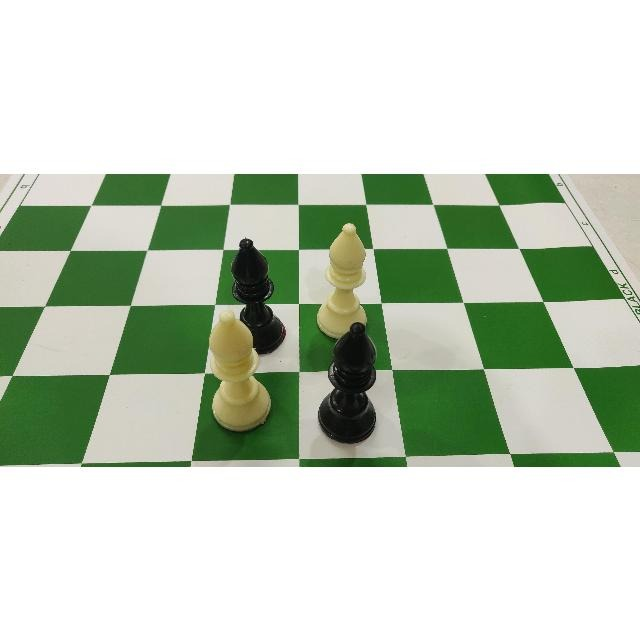black-bishop: (316, 321, 377, 444), (230, 236, 288, 354)
white-bishop: (207, 308, 271, 433), (316, 221, 368, 339)
